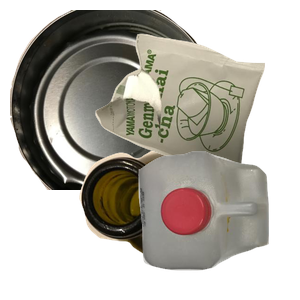glass: (77, 147, 295, 300)
metal: (10, 10, 221, 190)
plastic: (136, 149, 300, 300)
trash: (93, 31, 300, 205)
